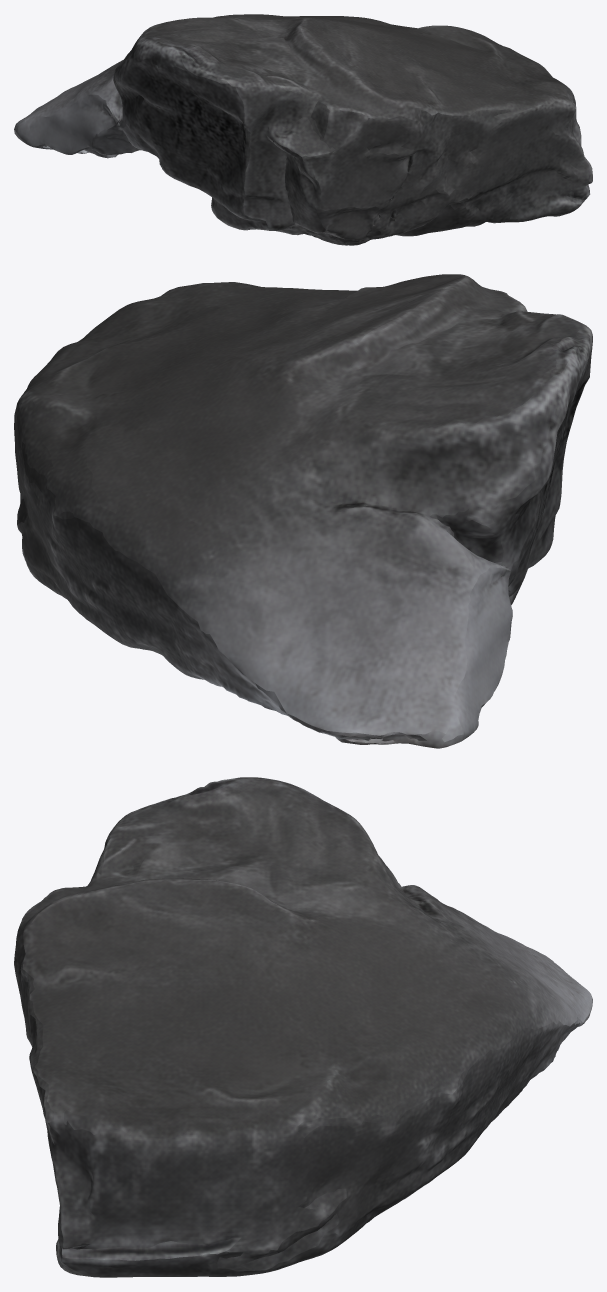
The picture shows the model from 3 angles, top to bottom: view 1: azimuth 30°, elevation 25°; view 2: azimuth 150°, elevation 25°; view 3: azimuth 270°, elevation 25°; orthographic projection. The views are drawn at different scales.
Parts seen in each view (by area): view 1: world; view 2: world; view 3: world.
Part boxes in pixels (bbox=[...]): world: bbox=[14, 14, 592, 245]; world: bbox=[14, 274, 592, 748]; world: bbox=[14, 777, 592, 1277].
Bounding box in the file's own units: 2.5 × 1.21 × 2.3.
1 material, 1 textured.
